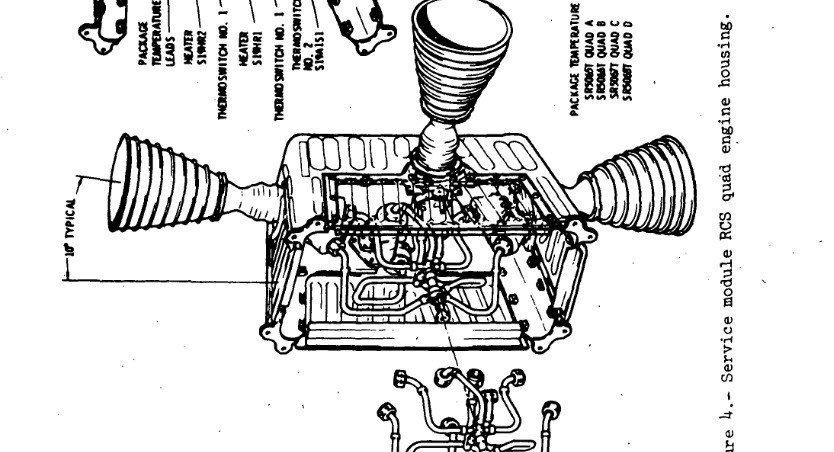thruster: (105, 132, 233, 238), (410, 0, 517, 126), (577, 135, 701, 239)
